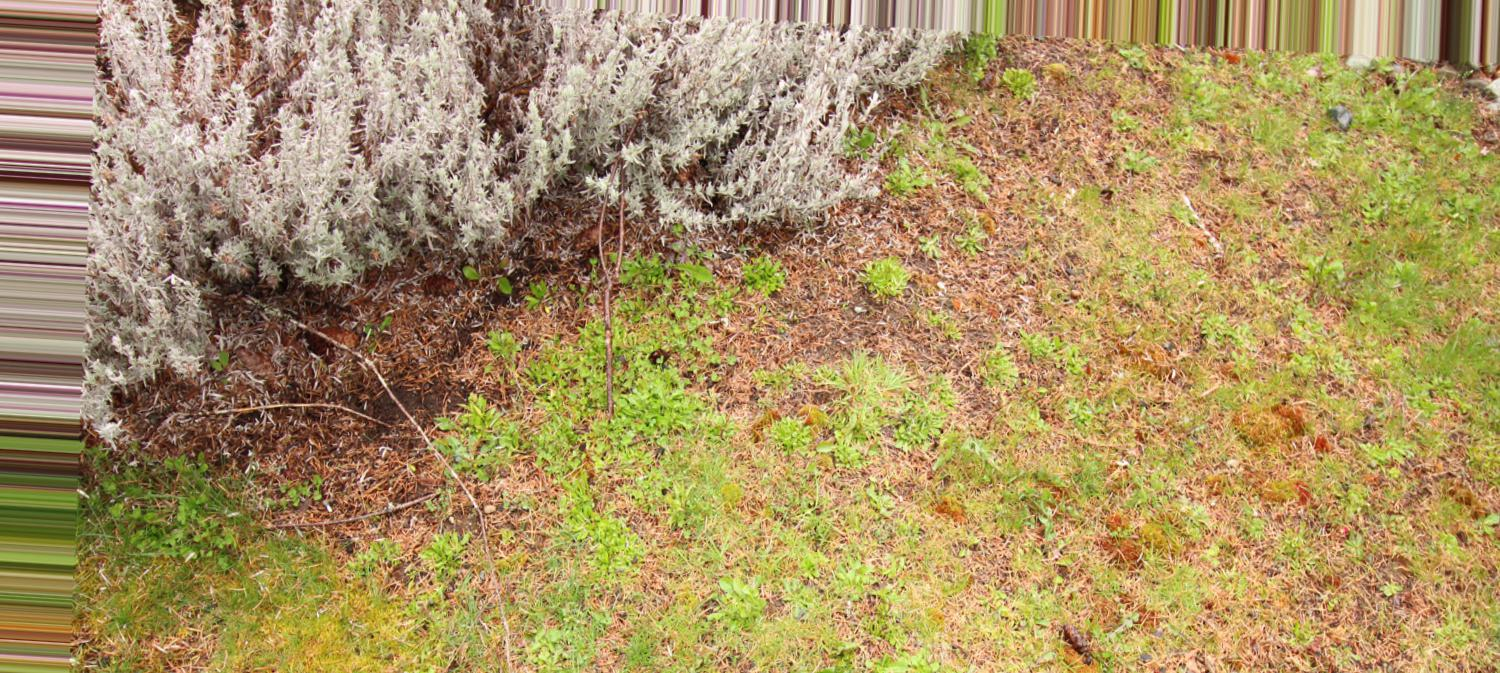patch: (917, 421, 1372, 661), (156, 252, 575, 439), (949, 106, 1087, 352), (287, 447, 560, 571), (1200, 200, 1320, 372), (763, 245, 940, 358), (1098, 85, 1179, 179)
